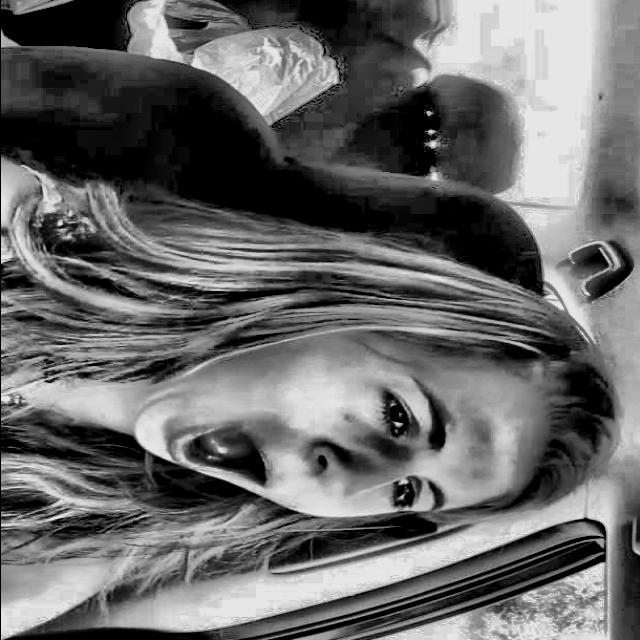open_eyes: (367, 379, 422, 449), (382, 470, 432, 529)
open_mouth: (159, 406, 288, 513)
